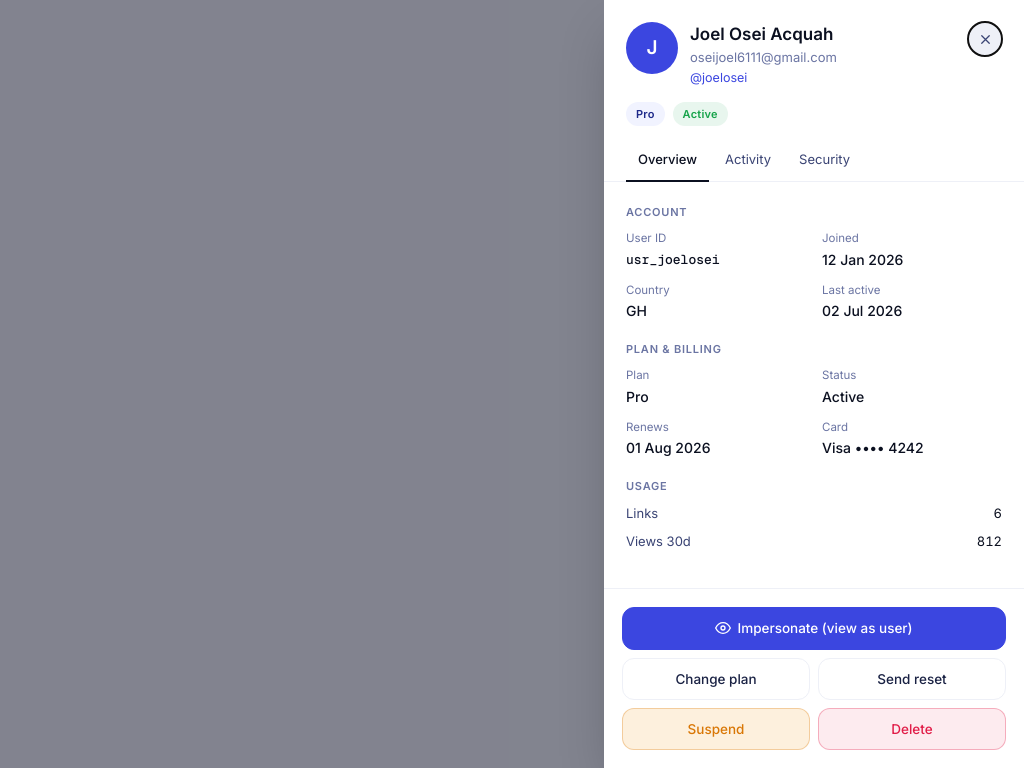
UserDetailDrawer › switches to the activity tab
Expected: the text "Joel Osei Acquah" is shown, [690,22,837,48]
Click the tab "Activity": (748, 161) [713,140,783,182]
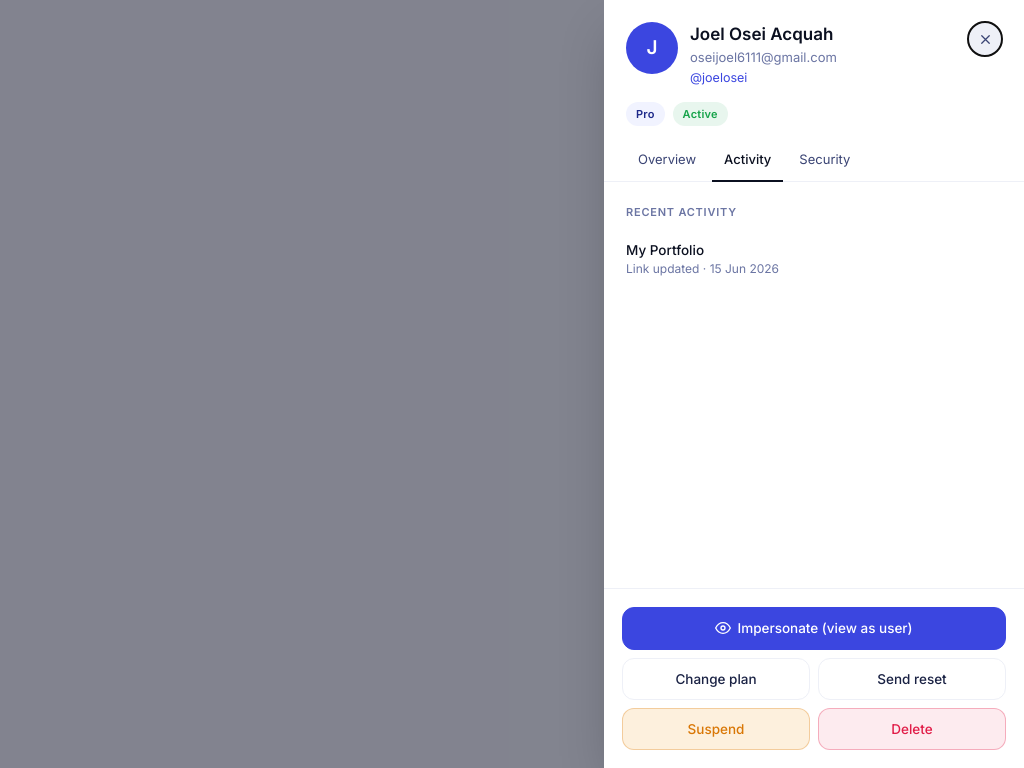
Result: the text "My Portfolio" is shown at [626,242,704,258]
Result: the text "Link updated · 15 Jun 2026" is shown at [626,260,779,276]
